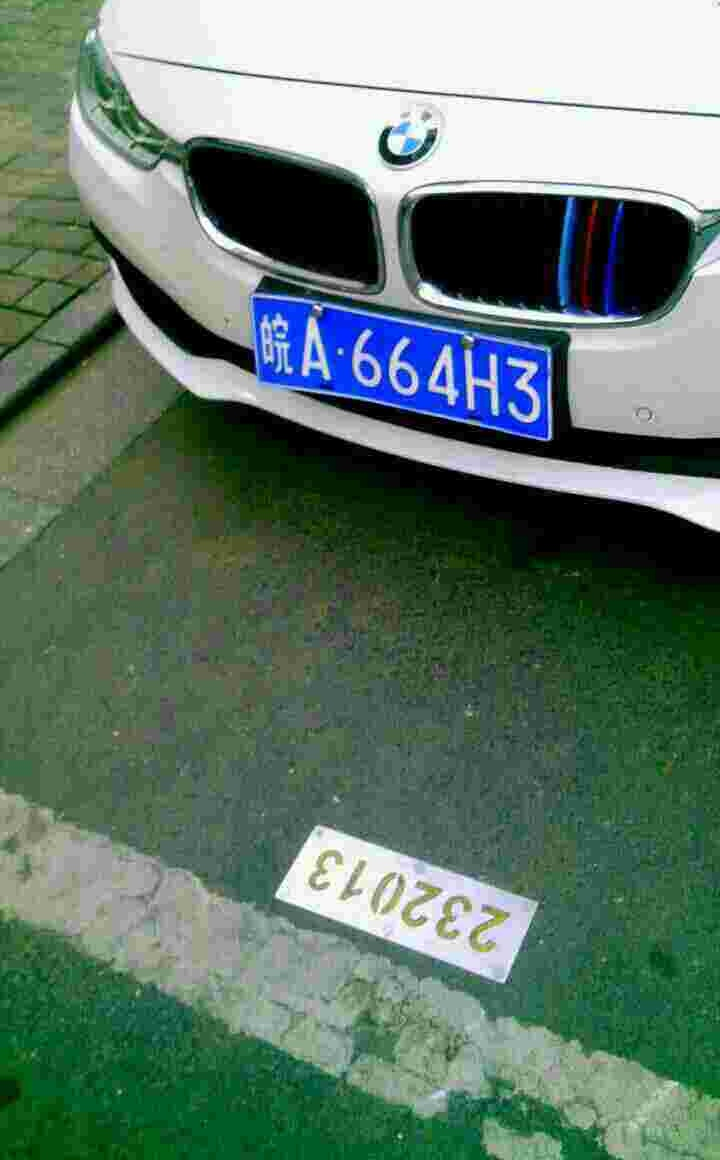license_plate: (253, 284, 567, 444)
